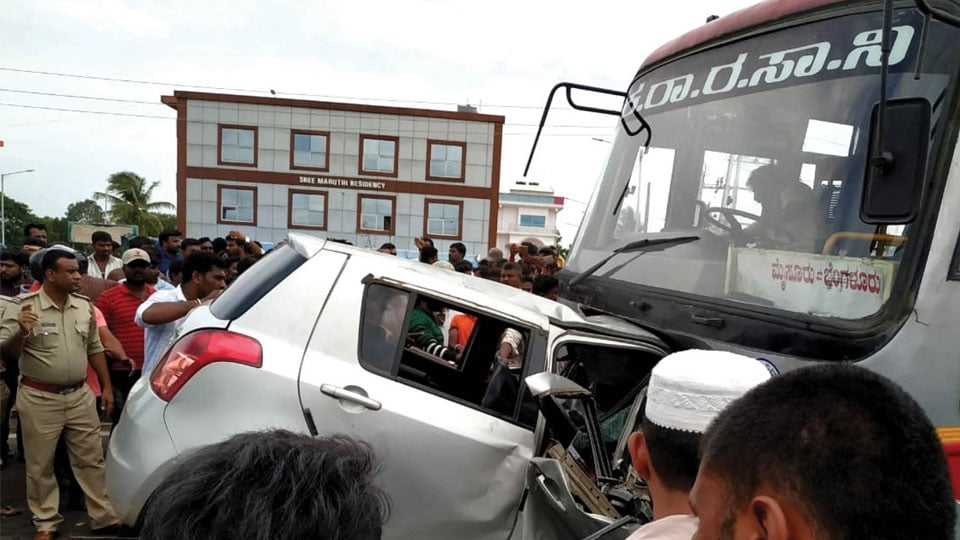accident: (254, 244, 681, 477)
